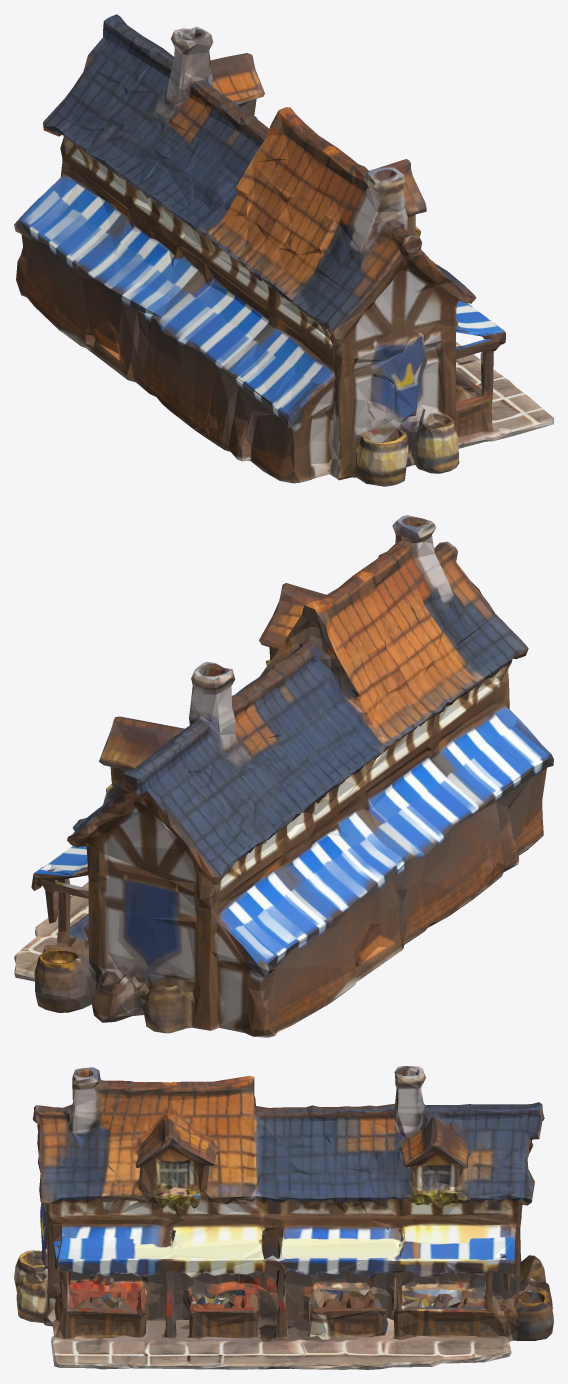
Rendered from kingdom_market_1117.glb.
The picture shows the model from 3 angles, top to bottom: view 1: azimuth 30°, elevation 25°; view 2: azimuth 150°, elevation 25°; view 3: azimuth 270°, elevation 25°; orthographic projection. The views are drawn at different scales.
Visible parts, largest first — view 1: tmp9e9cpsw3.ply; view 2: tmp9e9cpsw3.ply; view 3: tmp9e9cpsw3.ply.
Boxes of the visible parts, <box> form: tmp9e9cpsw3.ply: <box>14,14,553,486</box>; tmp9e9cpsw3.ply: <box>14,515,553,1037</box>; tmp9e9cpsw3.ply: <box>14,1066,553,1369</box>.
Size of the model in its own units: 1.02 by 0.9471 by 1.98.
1 material, 1 textured.
